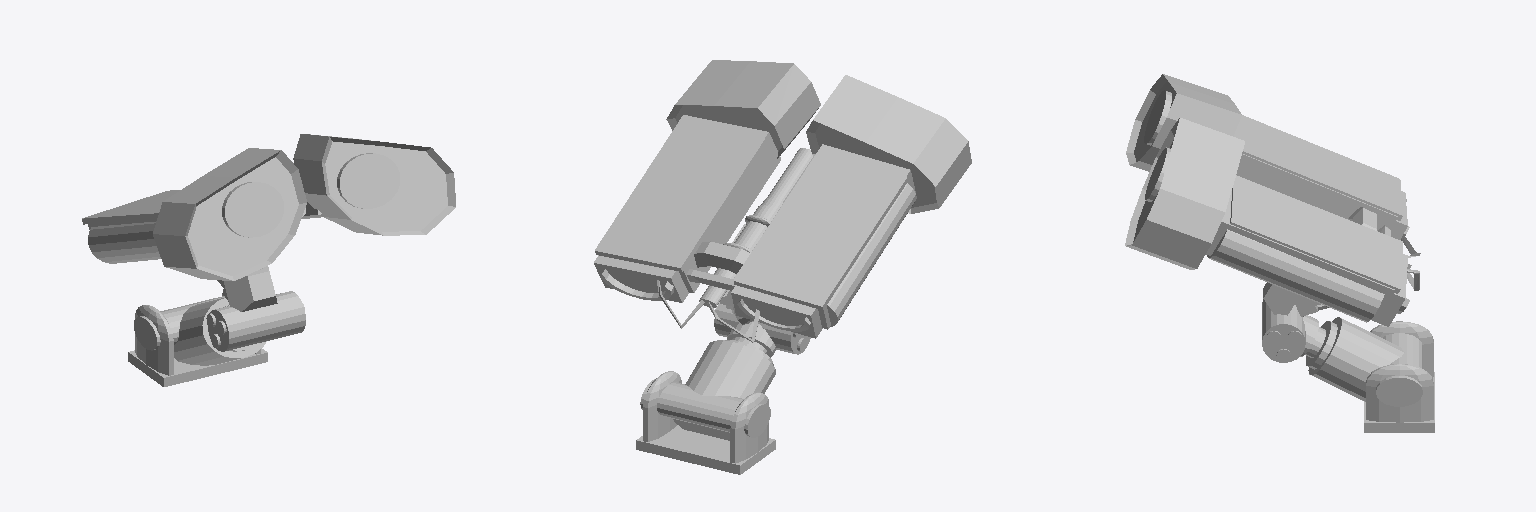
The model's file is walle-head.obj.
3 renders of one model, left to right at view 1: azimuth 30°, elevation 25°; view 2: azimuth 150°, elevation 25°; view 3: azimuth 270°, elevation 25°, orthographic.
Visible parts, largest first — view 1: walle:Mesh; view 2: walle:Mesh; view 3: walle:Mesh.
Part boxes in pixels (x1,y1,x2,y2): walle:Mesh: (82,134,455,386); walle:Mesh: (594,60,971,474); walle:Mesh: (1125,74,1434,432).
Size of the model in its own units: 4.59 by 4.85 by 4.55.